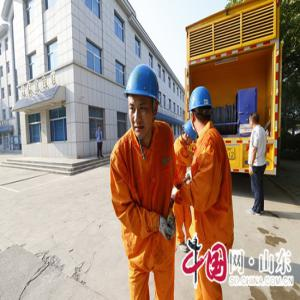blue: (125, 63, 162, 139), (189, 88, 214, 133), (181, 121, 199, 146)
none: (250, 113, 261, 131)
